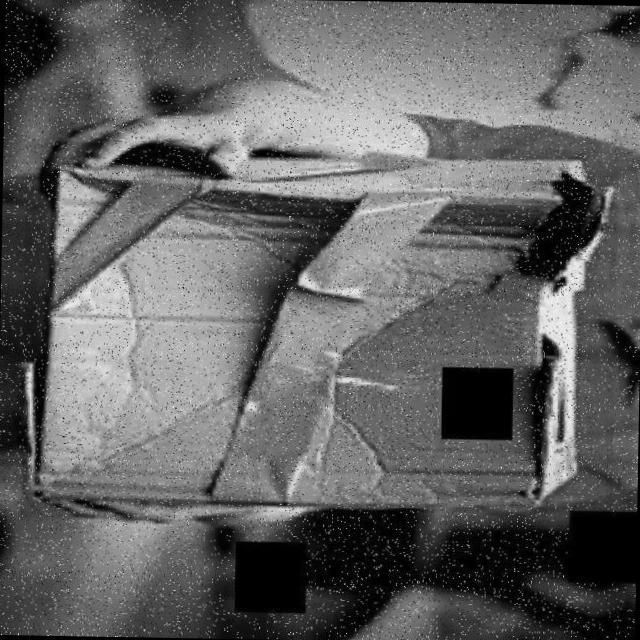box: (20, 141, 618, 528)
